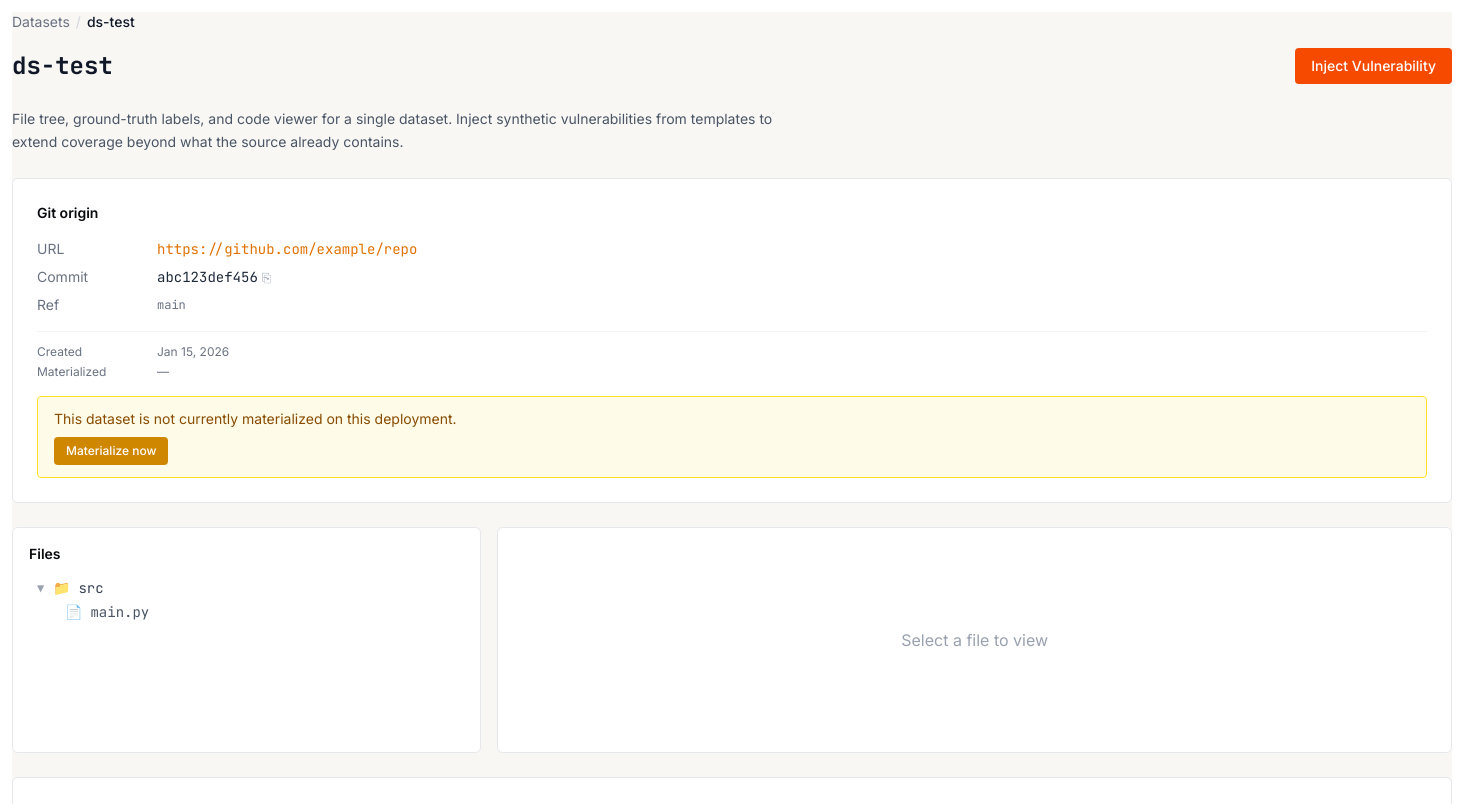
Scenario: DatasetDetail — Materialization › shows error banner when rematerialization fails
This screenshot has width=1464, height=804.
Click the button with test id "materialize-btn": (111, 450) [54, 436, 168, 464]
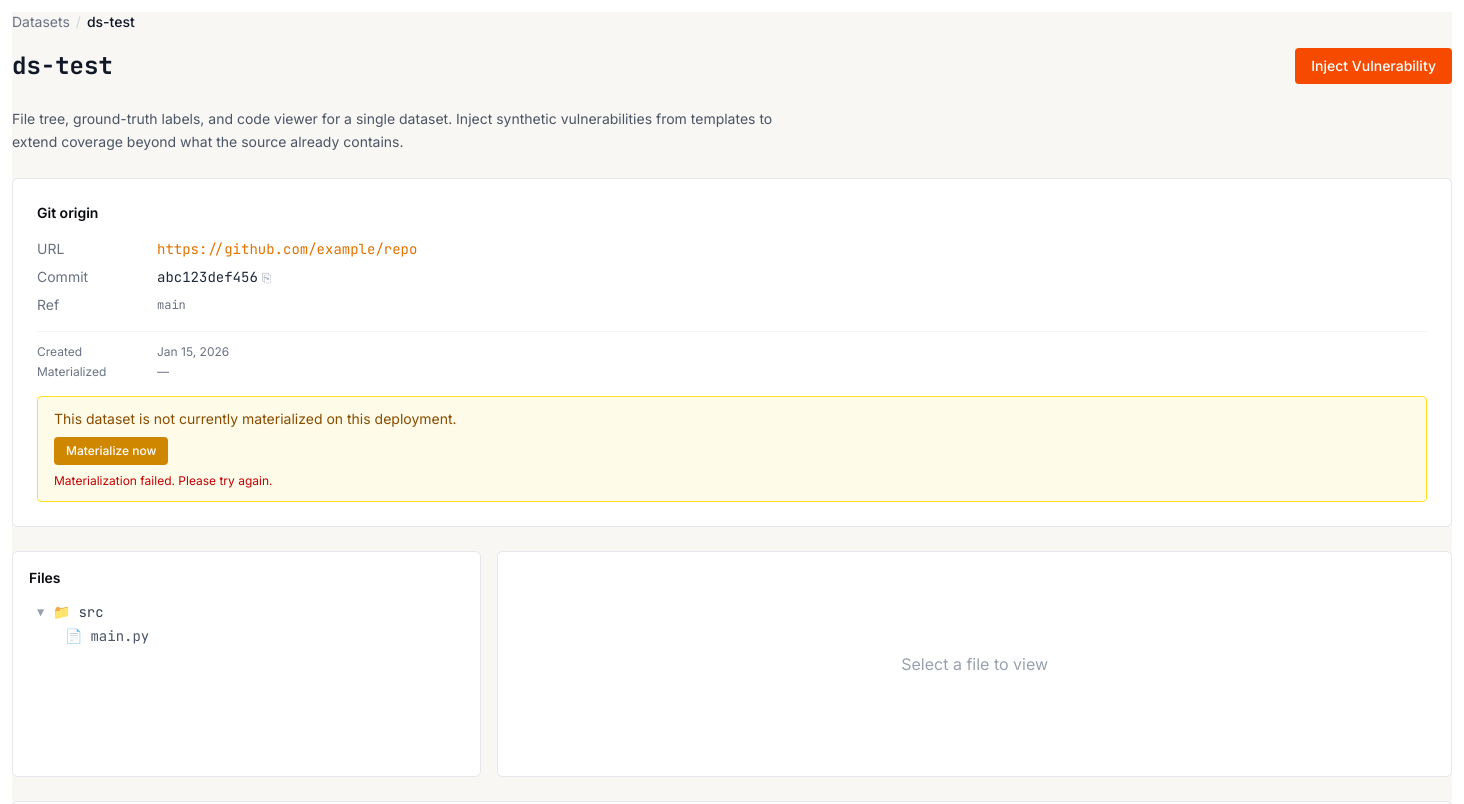
Expected: the message with test id "materialize-error" shows "Materialization failed", [54, 472, 272, 488]
